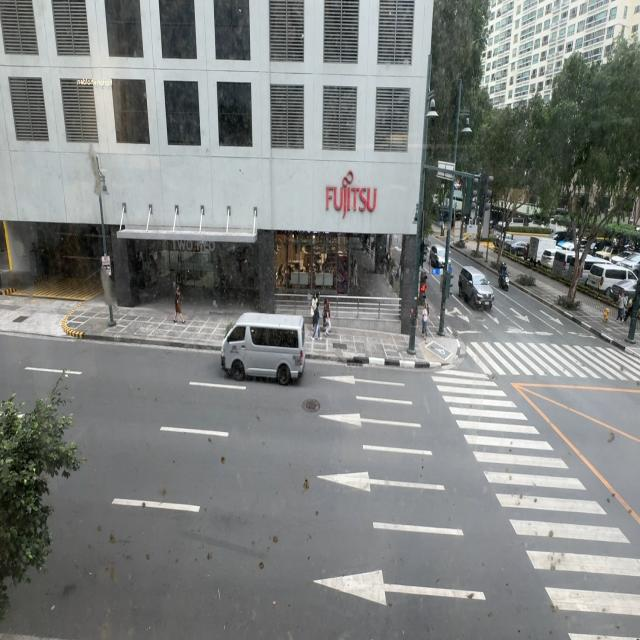pedestrain: (311, 300, 321, 342), (173, 286, 184, 324), (322, 298, 332, 334), (623, 295, 633, 323), (617, 291, 625, 321)
waiting: (421, 302, 429, 340)
